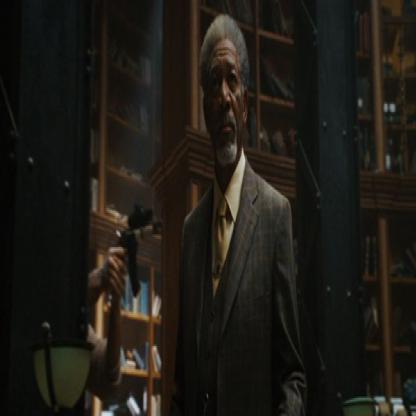Gun: (110, 199, 164, 300)
